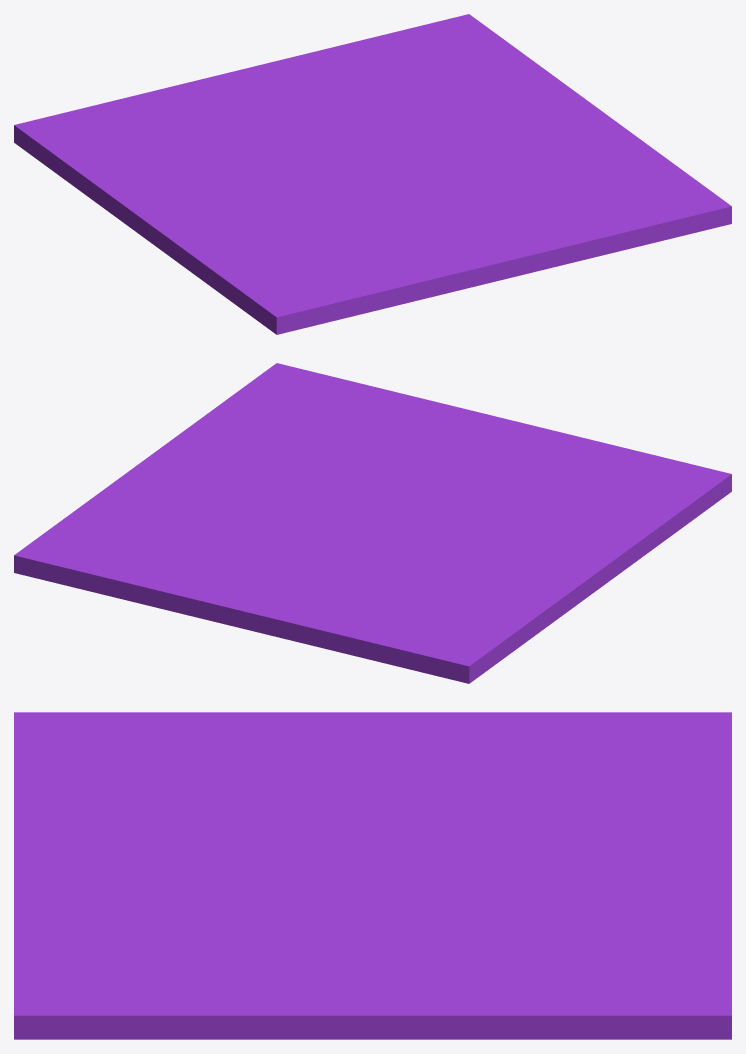
File: Platform_19_chunks.fbx
The picture shows the model from 3 angles, top to bottom: view 1: azimuth 30°, elevation 25°; view 2: azimuth 150°, elevation 25°; view 3: azimuth 270°, elevation 25°; orthographic projection. The views are drawn at different scales.
Parts seen in each view (by area): view 1: Platform_19_0, Platform_19_10, Platform_19_4, Platform_19_1, Platform_19_7, Platform_19_8, Platform_19_9, Platform_19_5, Platform_19_3, Platform_19_6, Platform_19_12, Platform_19_11 (+1 smaller); view 2: Platform_19_10, Platform_19_4, Platform_19_1, Platform_19_0, Platform_19_9, Platform_19_7, Platform_19_8, Platform_19_5, Platform_19_3, Platform_19_12, Platform_19_11, Platform_19_2 (+1 smaller); view 3: Platform_19_10, Platform_19_0, Platform_19_4, Platform_19_1, Platform_19_7, Platform_19_8, Platform_19_9, Platform_19_5, Platform_19_6, Platform_19_3, Platform_19_12, Platform_19_11 (+1 smaller).
Part boxes in pixels (x1,y1,x2,y2): Platform_19_0: (225,182,476,334); Platform_19_10: (352,14,595,119); Platform_19_4: (14,90,223,218); Platform_19_1: (112,165,303,296); Platform_19_7: (373,184,597,285); Platform_19_8: (503,156,731,254); Platform_19_9: (158,42,384,128); Platform_19_5: (370,107,613,185); Platform_19_3: (197,103,373,184); Platform_19_6: (559,120,731,256); Platform_19_12: (272,103,409,161); Platform_19_11: (370,112,542,162); Platform_19_10: (14,462,244,599); Platform_19_4: (326,569,573,683); Platform_19_1: (447,499,697,606); Platform_19_0: (408,432,731,529); Platform_19_9: (123,541,347,650); Platform_19_7: (348,398,558,505); Platform_19_8: (242,363,421,457); Platform_19_5: (141,449,410,515); Platform_19_3: (333,507,447,609); Platform_19_12: (238,518,366,570); Platform_19_11: (194,475,366,527); Platform_19_2: (414,503,556,552); Platform_19_10: (371,912,731,1039); Platform_19_0: (14,712,328,851); Platform_19_4: (465,712,731,818); Platform_19_1: (108,712,475,800); Platform_19_7: (14,827,320,918); Platform_19_8: (14,915,271,1021); Platform_19_9: (540,808,731,937); Platform_19_5: (230,851,385,1039); Platform_19_6: (14,963,353,1039); Platform_19_3: (324,789,667,865); Platform_19_12: (387,838,545,918); Platform_19_11: (380,865,497,979).
Bounding box in the file's own units: 810 × 29.87 × 810.
